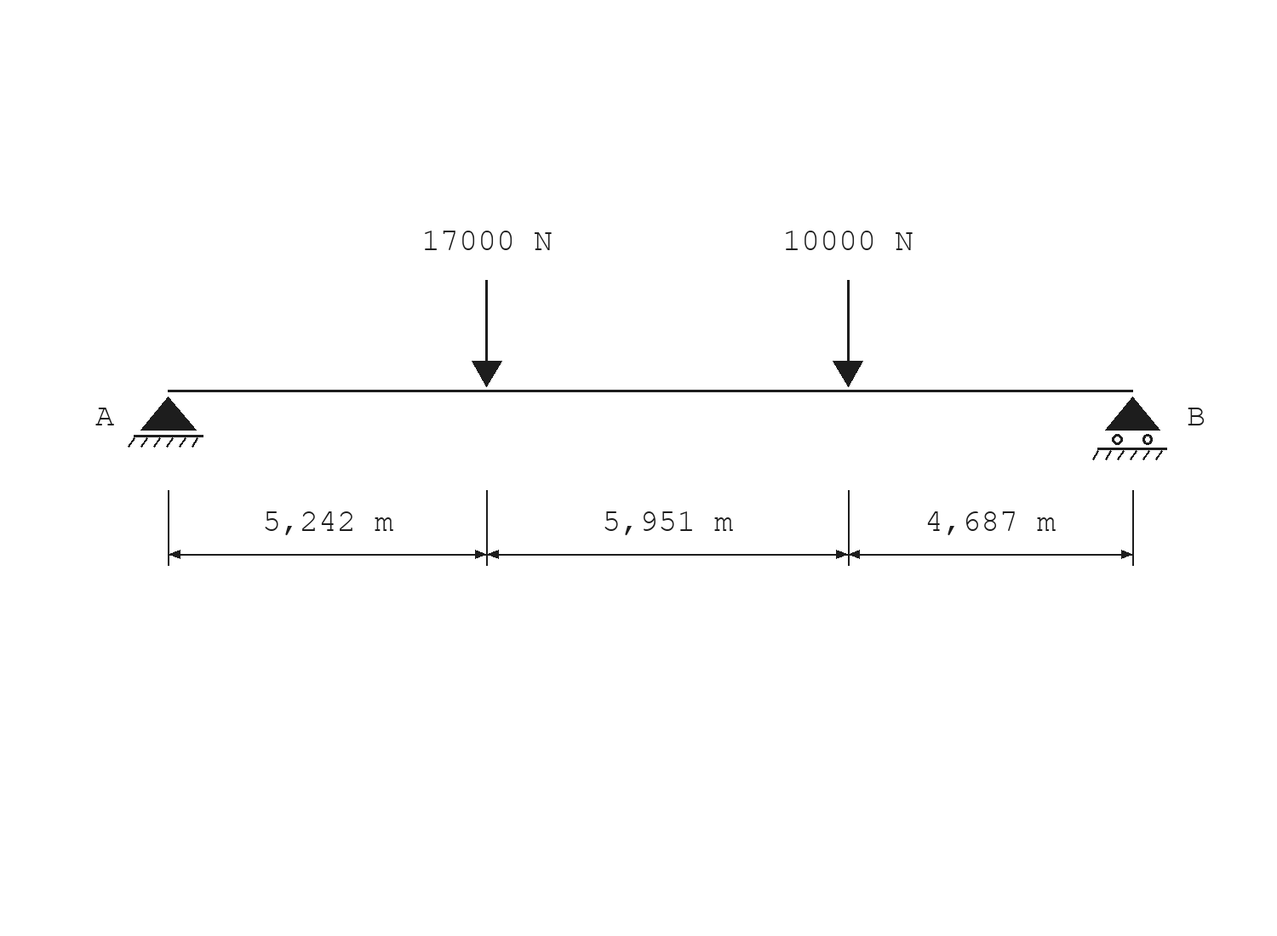pin_support: (128, 397, 203, 448)
point_load: (472, 280, 502, 387), (833, 280, 863, 387)
roller_support: (1092, 397, 1167, 460)
